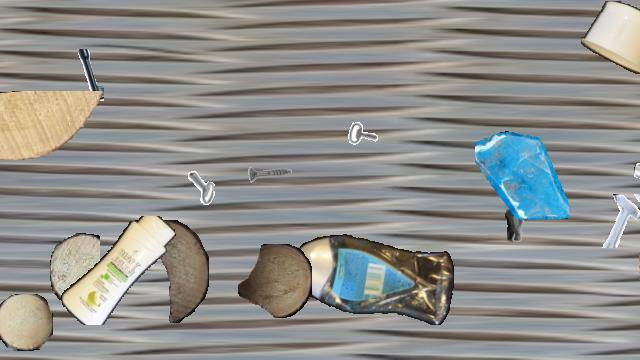glass: (475, 130, 569, 224)
metal: (46, 49, 104, 107), (187, 152, 241, 206), (490, 202, 540, 252), (596, 194, 640, 248), (246, 152, 292, 198), (348, 108, 388, 148), (634, 145, 640, 207)
plastic: (293, 233, 453, 329), (58, 216, 180, 324), (581, 1, 640, 73)
wood: (137, 220, 209, 322), (0, 91, 107, 159), (238, 244, 312, 318), (50, 233, 100, 305), (0, 294, 52, 350), (639, 239, 640, 301)
